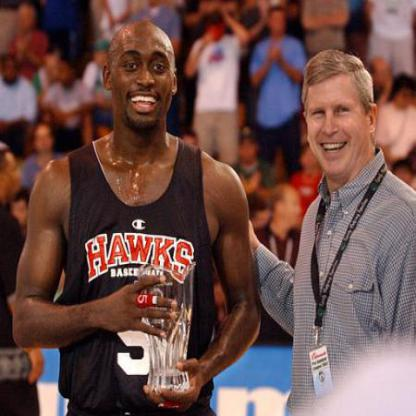face: (305, 52, 377, 180), (109, 22, 180, 140), (277, 187, 303, 230), (1, 150, 23, 200), (11, 198, 31, 232), (395, 82, 415, 113), (3, 55, 20, 89), (35, 126, 53, 158), (270, 9, 288, 38), (241, 134, 257, 164), (301, 144, 319, 169), (207, 19, 224, 45), (21, 7, 36, 33), (58, 62, 70, 86), (47, 57, 59, 80)
